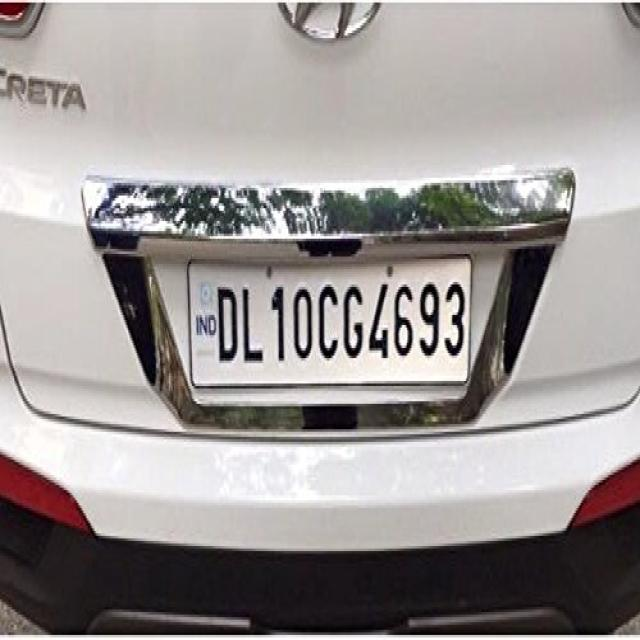license_plate: (180, 244, 480, 398)
